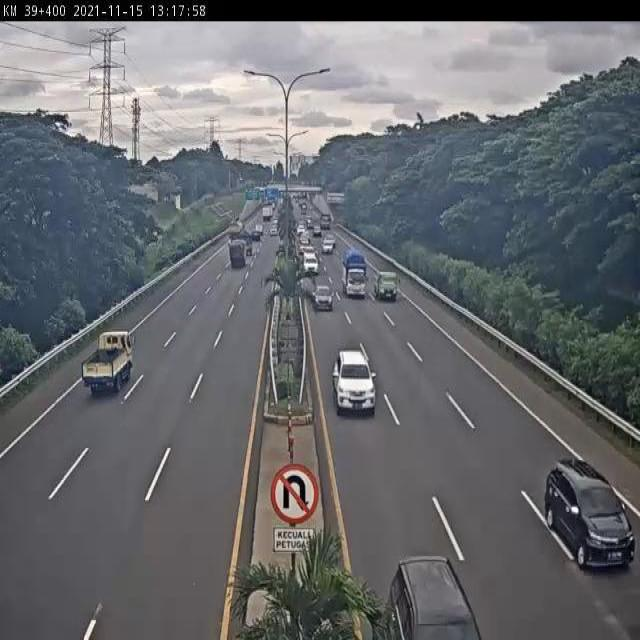ARABA: (543, 456, 636, 569), (330, 345, 378, 416), (312, 283, 334, 312), (302, 252, 321, 276)
KAMYONET: (79, 330, 137, 398), (342, 248, 368, 299), (373, 268, 400, 303)
